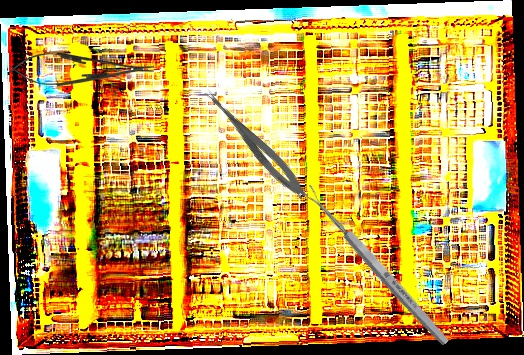Micro Scissor: (197, 85, 312, 203)
Needle Holder: (9, 52, 155, 87)
Surgical Spoon: (300, 183, 452, 348)
